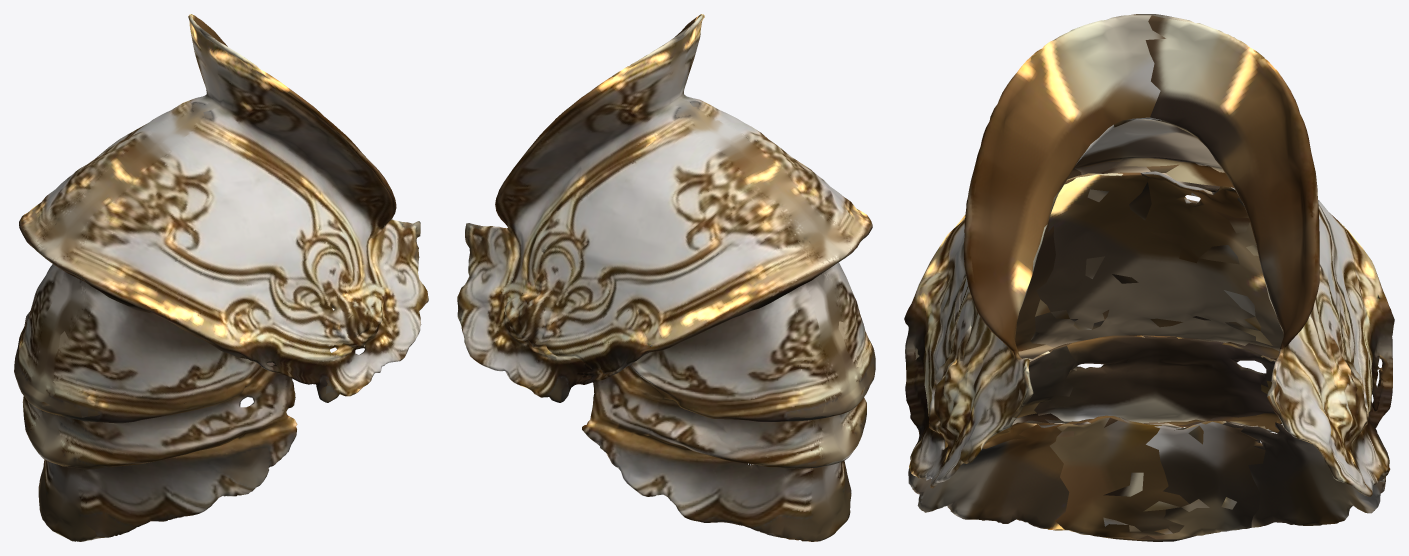
Rendered from lumen_pauldron.glb.
3 views of the same model, side by side, from view 1: azimuth 30°, elevation 25°; view 2: azimuth 150°, elevation 25°; view 3: azimuth 270°, elevation 25° (orthographic). The views are drawn at different scales.
Parts seen in each view (by area): view 1: geometry_0; view 2: geometry_0; view 3: geometry_0.
Part boxes in pixels (x1,y1,x2,y2): geometry_0: (14,14,428,541); geometry_0: (457,14,875,541); geometry_0: (904,14,1394,541).
Size of the model in its own units: 0.2334 by 0.3 by 0.2137.
Materials: 1 (1 with a texture image).
